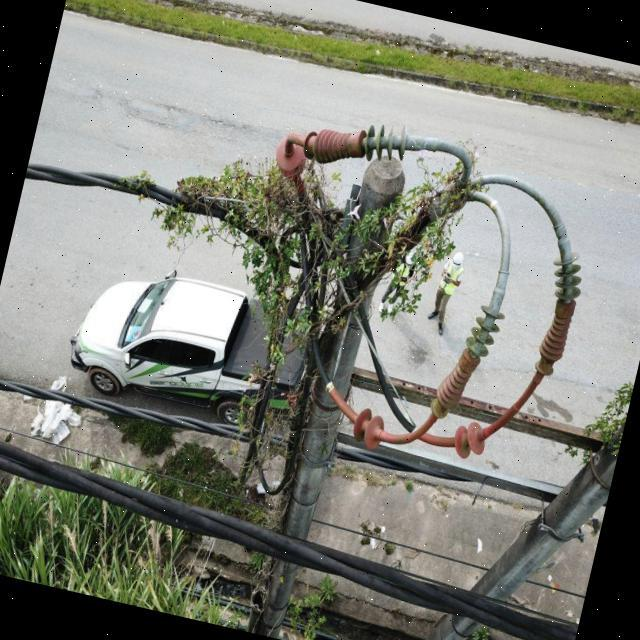critical vegetation: (40, 53, 505, 549)
